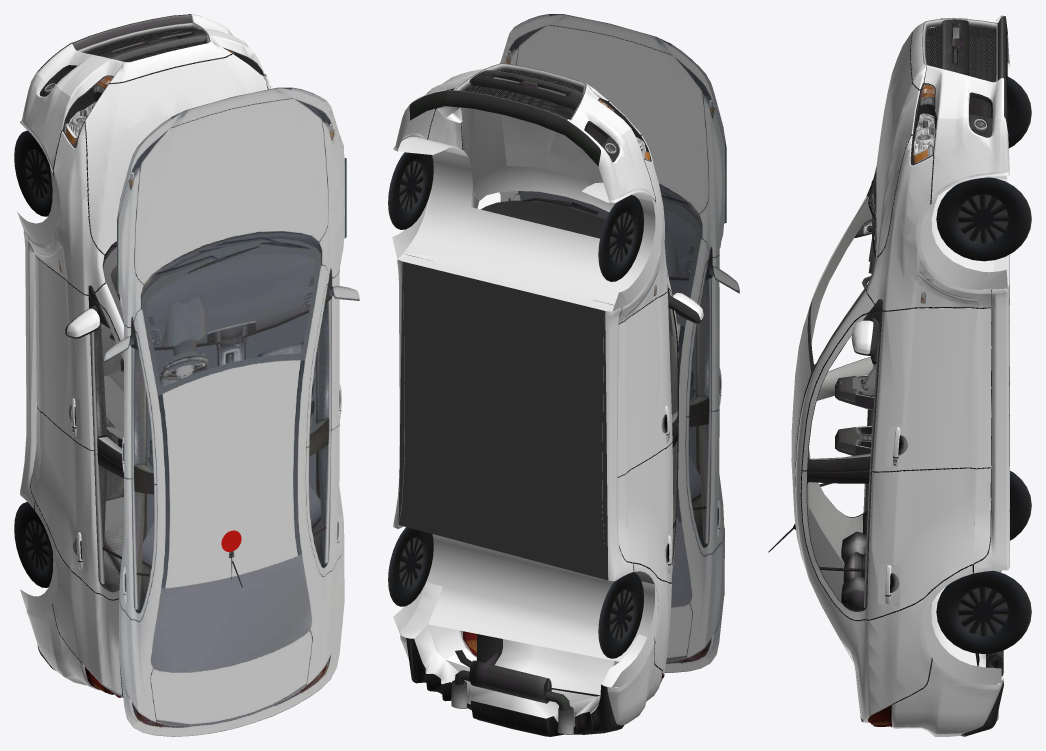
The model's file is car.gltf.
3 renders of one model, left to right at view 1: azimuth 30°, elevation 25°; view 2: azimuth 150°, elevation 25°; view 3: azimuth 270°, elevation 25°, orthographic. The views are drawn at different scales.
Parts seen in each view (by area): view 1: car-2, car, fronttire-2.002, reartire-2.007; view 2: car, car-2, fronttire-2.002, reartire-2.007, reartire-1.003, fronttire-1.002; view 3: car, fronttire-1.002, reartire-1.003, fronttire-2.002, reartire-2.007.
Boxes of the visible parts, box(x1,y1,x2,y2) form: car-2: box(104, 87, 359, 736); car: box(17, 14, 272, 697); fronttire-2.002: box(14, 130, 52, 216); reartire-2.007: box(14, 502, 53, 587); car: box(392, 63, 703, 736); car-2: box(499, 14, 739, 672); fronttire-2.002: box(598, 194, 643, 281); reartire-2.007: box(598, 572, 643, 658); reartire-1.003: box(388, 527, 433, 606); fronttire-1.002: box(388, 152, 433, 229); car: box(768, 15, 1009, 736); fronttire-1.002: box(936, 177, 1031, 261); reartire-1.003: box(936, 570, 1031, 653); fronttire-2.002: box(1007, 76, 1031, 148); reartire-2.007: box(1010, 471, 1031, 540).
Size of what is drawn, in the model's own units: 1.91 by 4.5 by 1.6.
Materials: 16 (15 with a texture image).
